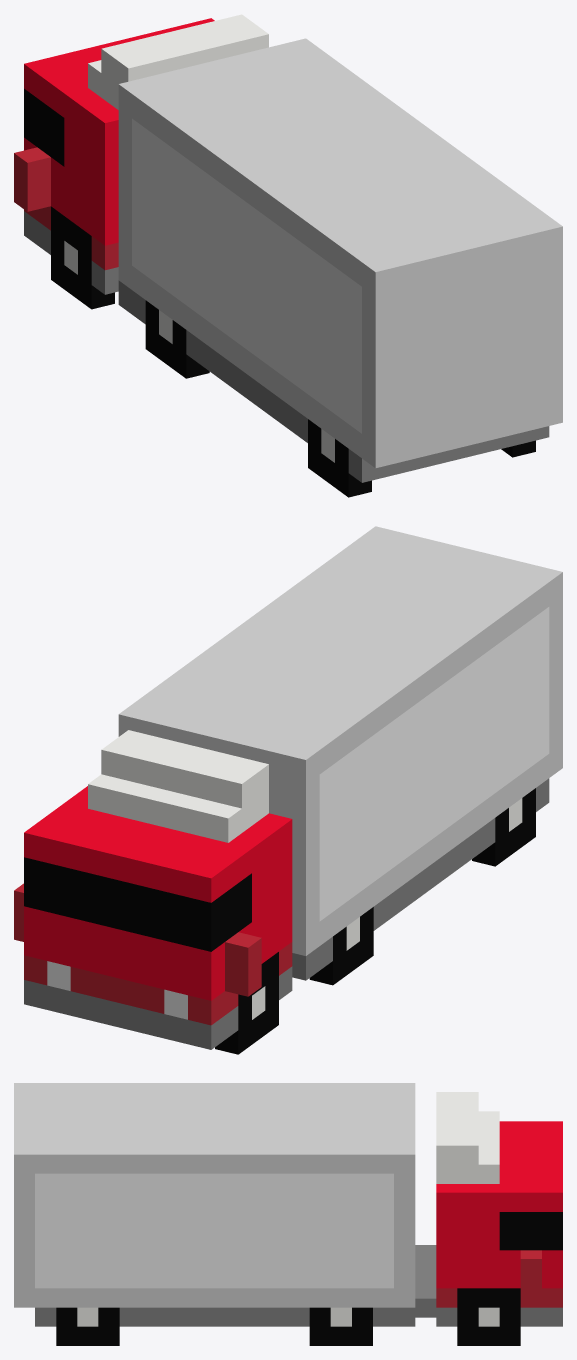
The model's file is Car4.obj.
3 views of the same model, one above another, from view 1: azimuth 30°, elevation 25°; view 2: azimuth 150°, elevation 25°; view 3: azimuth 270°, elevation 25° (orthographic). The views are drawn at different scales.
Bounding box in the file's own units: 1 × 1 × 2.6.
1 material, 1 textured.
